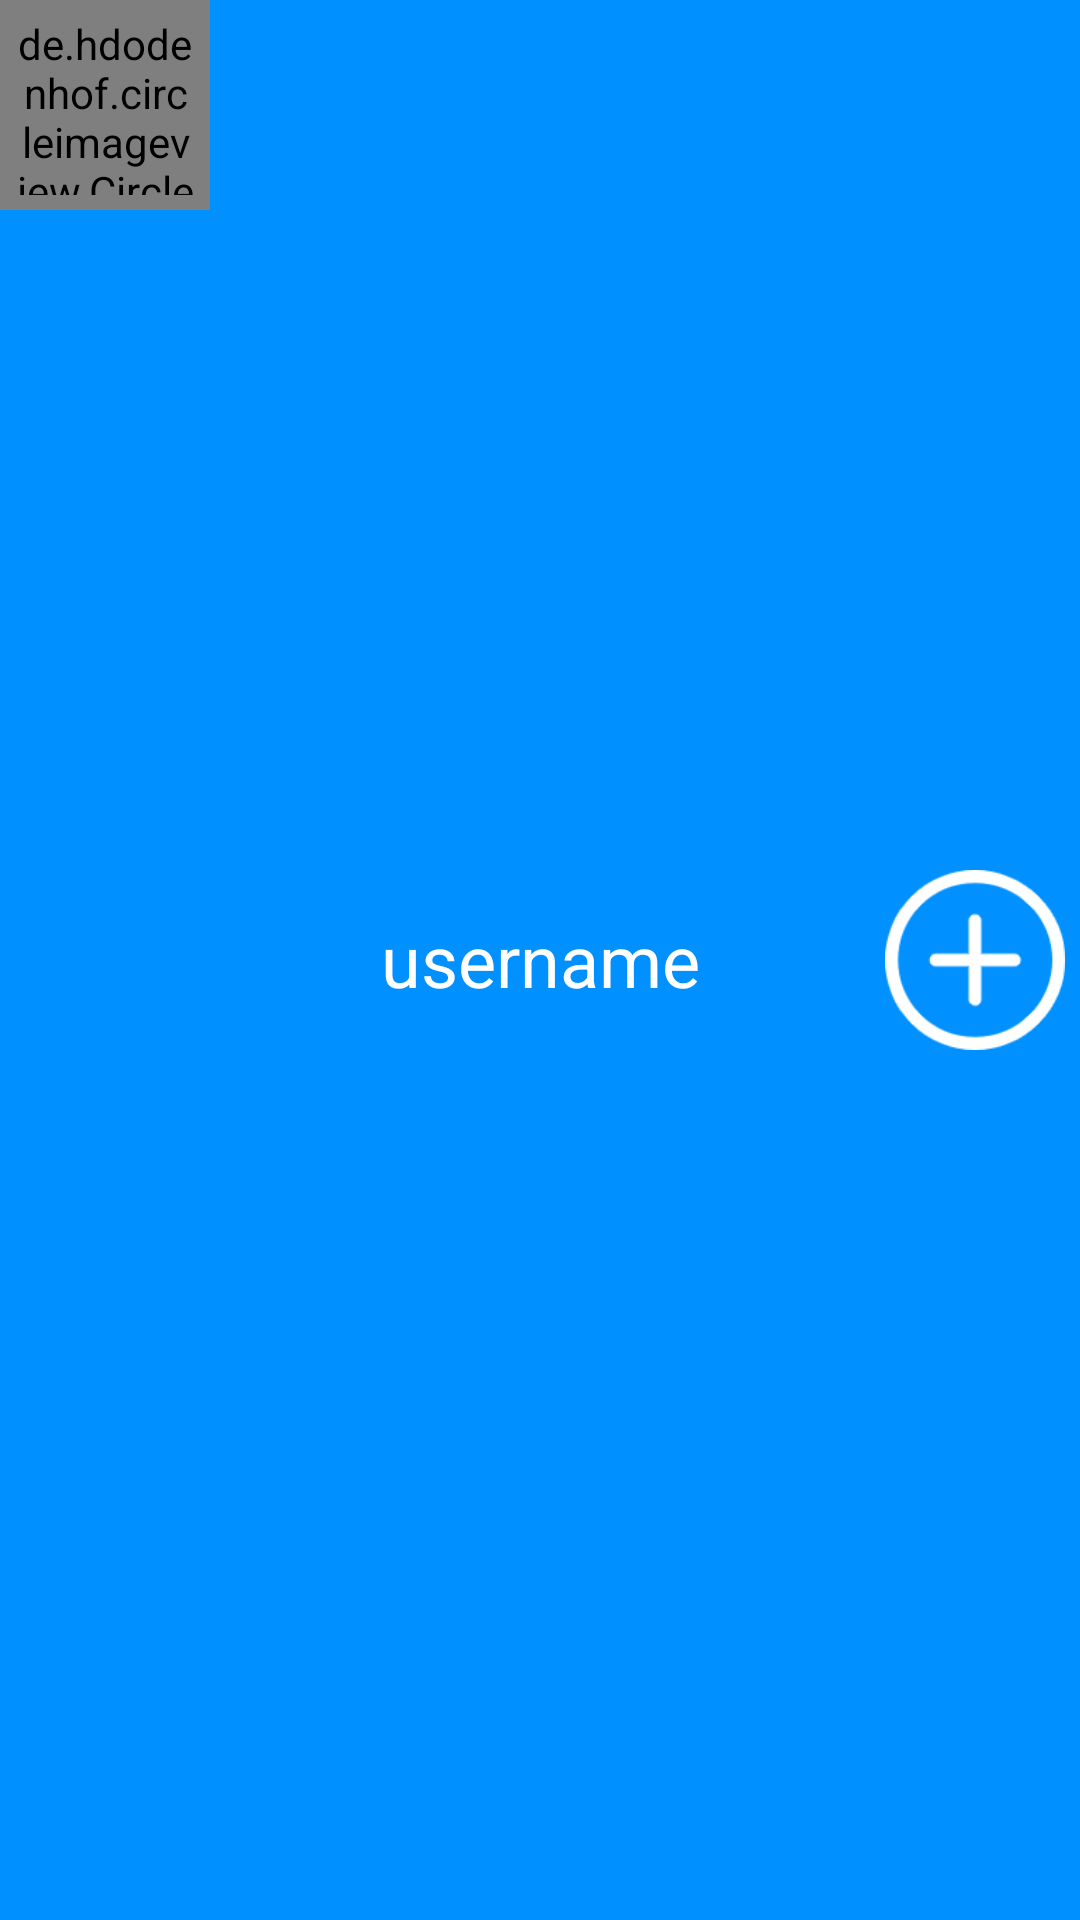

Named icons in this screenshot (1080 x 1920) and their centers, (x,y):
plus: (975,960)
